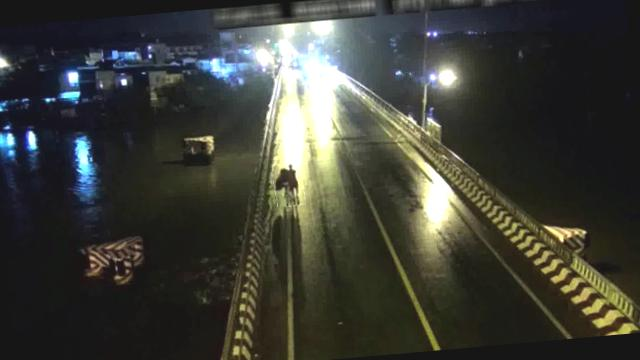Bike: (272, 162, 306, 208)
